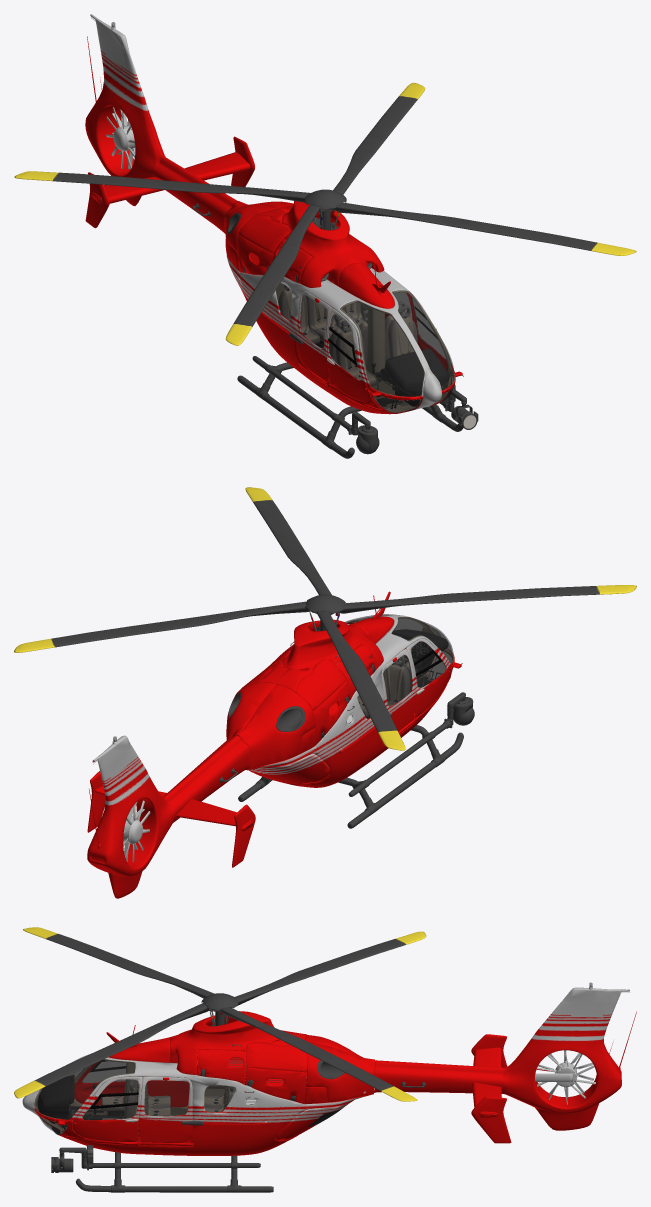
File: heli.glb
3 views of the same model, one above another, from view 1: azimuth 30°, elevation 25°; view 2: azimuth 150°, elevation 25°; view 3: azimuth 270°, elevation 25° (orthographic). The views are drawn at different scales.
Parts seen in each view (by area): view 1: BODY_23, blade_0, glass_24, door_FR_7, door_RR_10, door_FR_glass_8, door_RR_glass_11, blade_tail_2; view 2: BODY_23, blade_0, glass_24, door_FR_7, door_RR_10, door_RR_glass_11, door_FR_glass_8, blade_tail_2; view 3: BODY_23, blade_0, glass_24, door_FL_13, door_RL_16, door_RL._glass_17, door_FL_glass_14, door_RR_10, door_FR_7, door_FR_glass_8, blade_tail_2.
Boxes of the visible parts, x1,y1,x2,y2 form: BODY_23: [85, 14, 466, 458]; blade_0: [14, 82, 636, 345]; glass_24: [90, 14, 455, 413]; door_FR_7: [326, 309, 369, 401]; door_RR_10: [289, 291, 332, 389]; door_FR_glass_8: [328, 315, 360, 380]; door_RR_glass_11: [300, 295, 327, 348]; blade_tail_2: [106, 107, 135, 169]; BODY_23: [87, 591, 474, 898]; blade_0: [14, 487, 636, 750]; glass_24: [92, 614, 454, 762]; door_FR_7: [406, 638, 451, 717]; door_RR_10: [381, 649, 415, 731]; door_RR_glass_11: [383, 655, 412, 706]; door_FR_glass_8: [411, 641, 446, 687]; blade_tail_2: [123, 800, 150, 862]; BODY_23: [22, 986, 636, 1192]; blade_0: [14, 927, 426, 1101]; glass_24: [34, 982, 629, 1135]; door_FL_13: [71, 1076, 142, 1141]; door_RL_16: [137, 1076, 203, 1146]; door_RL._glass_17: [144, 1080, 189, 1115]; door_FL_glass_14: [83, 1079, 138, 1120]; door_RR_10: [147, 1077, 189, 1107]; door_FR_7: [74, 1060, 125, 1105]; door_FR_glass_8: [83, 1060, 125, 1082]; blade_tail_2: [538, 1050, 593, 1098].
Bounding box in the file's own units: 7.77 × 3.86 × 11.74.
Materials: 4 (3 with a texture image).
